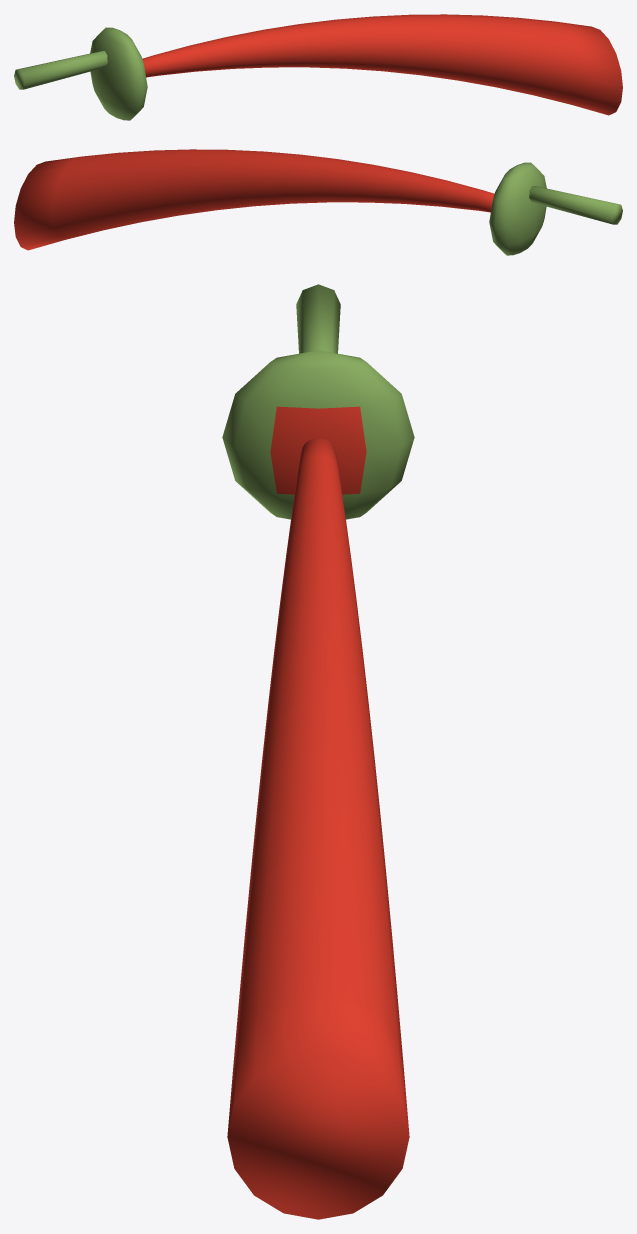
The model's file is Chili.fbx.
3 renders of one model, top to bottom at view 1: azimuth 30°, elevation 25°; view 2: azimuth 150°, elevation 25°; view 3: azimuth 270°, elevation 25°, orthographic. The views are drawn at different scales.
Parts seen in each view (by area): view 1: Chili; view 2: Chili; view 3: Chili.
Boxes of the visible parts, x1,y1,x2,y2 form: Chili: [14, 14, 622, 120]; Chili: [14, 149, 622, 255]; Chili: [222, 284, 414, 1219].
Size of the model in its own units: 0.1325 by 0.0435 by 0.019.
